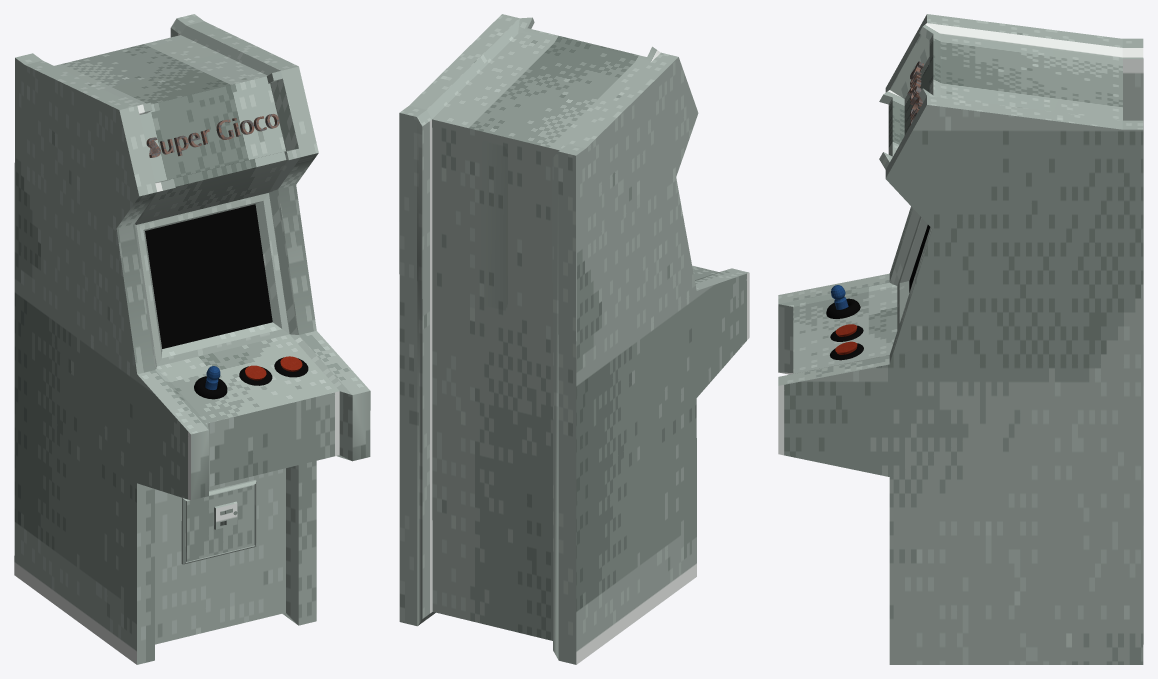
Rendered from Arcade.fbx.
The picture shows the model from 3 angles, left to right: view 1: azimuth 30°, elevation 25°; view 2: azimuth 150°, elevation 25°; view 3: azimuth 270°, elevation 25°; orthographic projection. The views are drawn at different scales.
Visible parts, largest first — view 1: Arcade.002; view 2: Arcade.002; view 3: Arcade.002.
Boxes of the visible parts, x1=… form: Arcade.002: x1=14, y1=14, x2=370, y2=664; Arcade.002: x1=399, y1=14, x2=749, y2=664; Arcade.002: x1=778, y1=14, x2=1143, y2=664.
Bounding box in the file's own units: 0.8113 × 2.34 × 1.38.
Materials: 5 (4 with a texture image).
